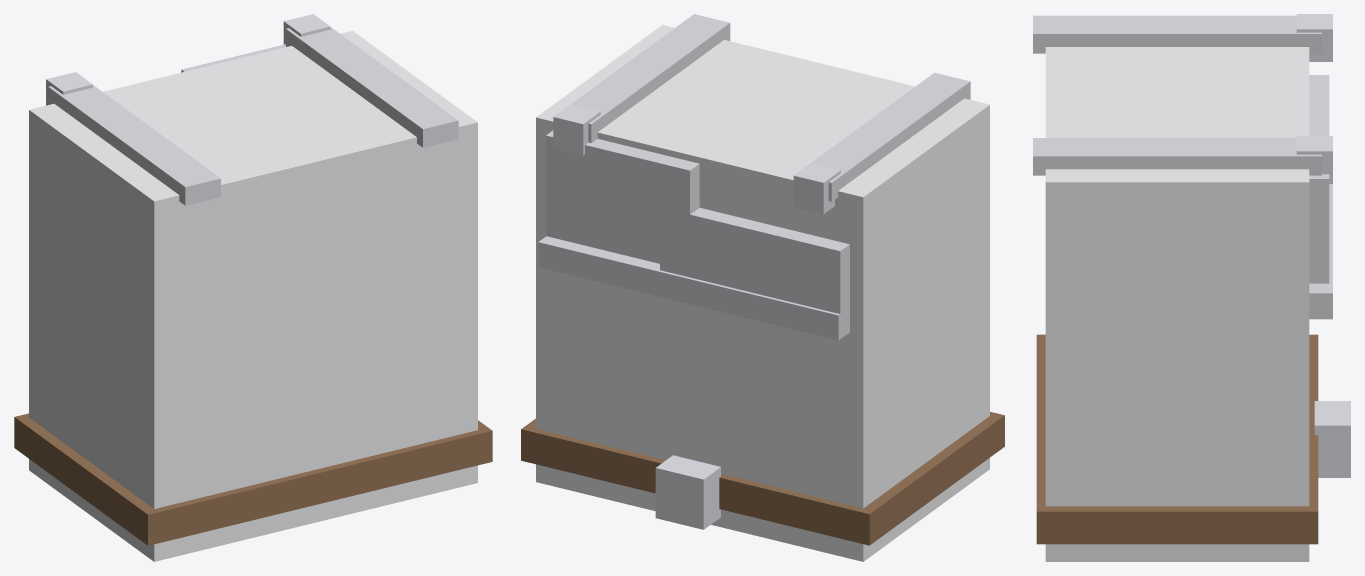
File: quiton_tronco.glb
The picture shows the model from 3 angles, left to right: view 1: azimuth 30°, elevation 25°; view 2: azimuth 150°, elevation 25°; view 3: azimuth 270°, elevation 25°; orthographic projection. The views are drawn at different scales.
Parts seen in each view (by area): view 1: quiton_tronco; view 2: quiton_tronco; view 3: quiton_tronco.
Boxes of the visible parts, box(x1,y1,x2,y2) form: quiton_tronco: box(14, 14, 492, 561); quiton_tronco: box(521, 14, 1004, 561); quiton_tronco: box(1033, 14, 1350, 561).
Size of the model in its own units: 0.58 by 0.605 by 0.44.
